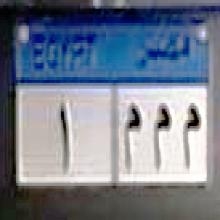1: (54, 97, 74, 171)
meem: (119, 100, 144, 174), (150, 102, 174, 173), (180, 100, 202, 174)
